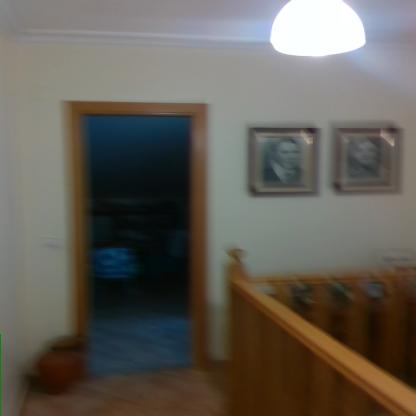open: (42, 83, 225, 382)
